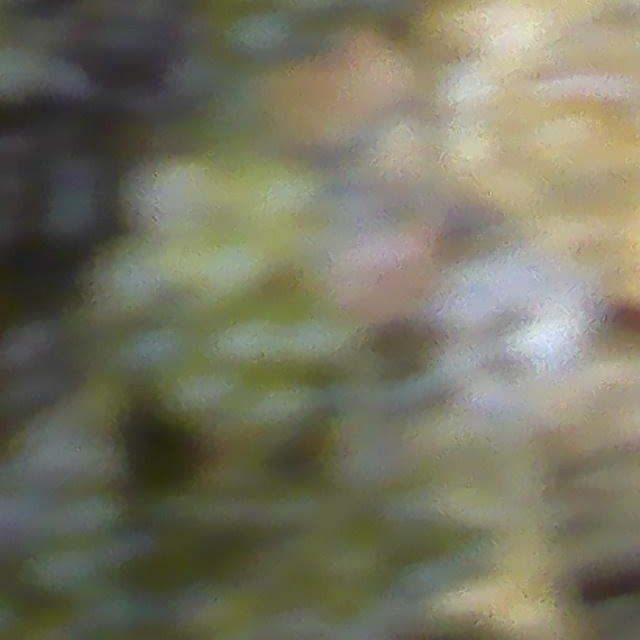SeaGrape: (163, 358, 240, 430), (120, 319, 189, 380)
